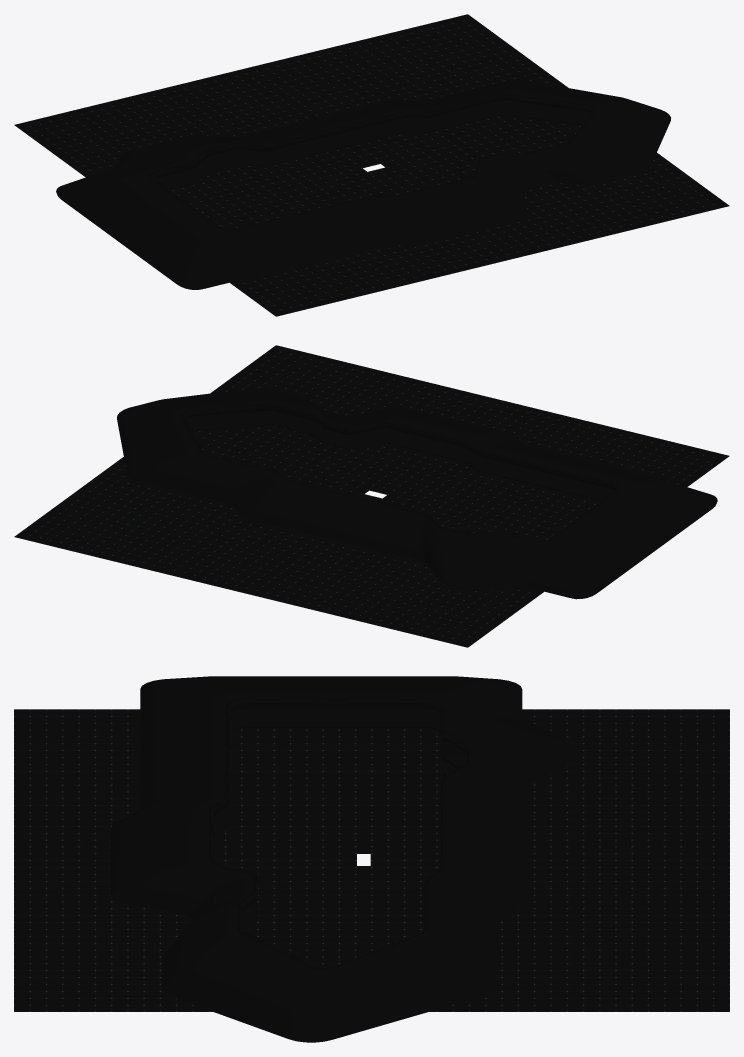
File: Trong_legacy_bike[All].gltf
3 renders of one model, top to bottom at view 1: azimuth 30°, elevation 25°; view 2: azimuth 150°, elevation 25°; view 3: azimuth 270°, elevation 25°, orthographic. The views are drawn at different scales.
Visible parts, largest first — view 1: Ground.001, ROOF, Stages.001, Tribunes, Guard_Barrier, Light1; view 2: Ground.001, ROOF, Stages.001, Tribunes, Guard_Barrier, Light1; view 3: Ground.001, ROOF, Stages.001, Tribunes, Light1, Guard_Barrier.
Boxes of the visible parts, x1,y1,x2,y2 form: Ground.001: (14,14,729,316); ROOF: (56,79,670,289); Stages.001: (156,100,591,188); Tribunes: (149,94,597,230); Guard_Barrier: (168,113,582,189); Light1: (156,94,590,226); Ground.001: (14,345,729,647); ROOF: (117,388,717,599); Stages.001: (187,410,614,499); Tribunes: (181,404,621,542); Guard_Barrier: (192,423,601,501); Light1: (184,402,612,536); Ground.001: (14,709,729,1011); ROOF: (111,676,570,1042); Stages.001: (213,707,467,929); Tribunes: (209,698,471,970); Light1: (211,696,469,963); Guard_Barrier: (213,725,460,931).
Bounding box in the file's own units: 2102 × 85.35 × 1760.
Materials: 1 (1 with a texture image).
